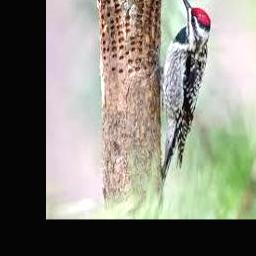Woodpecker: (159, 0, 210, 183)
